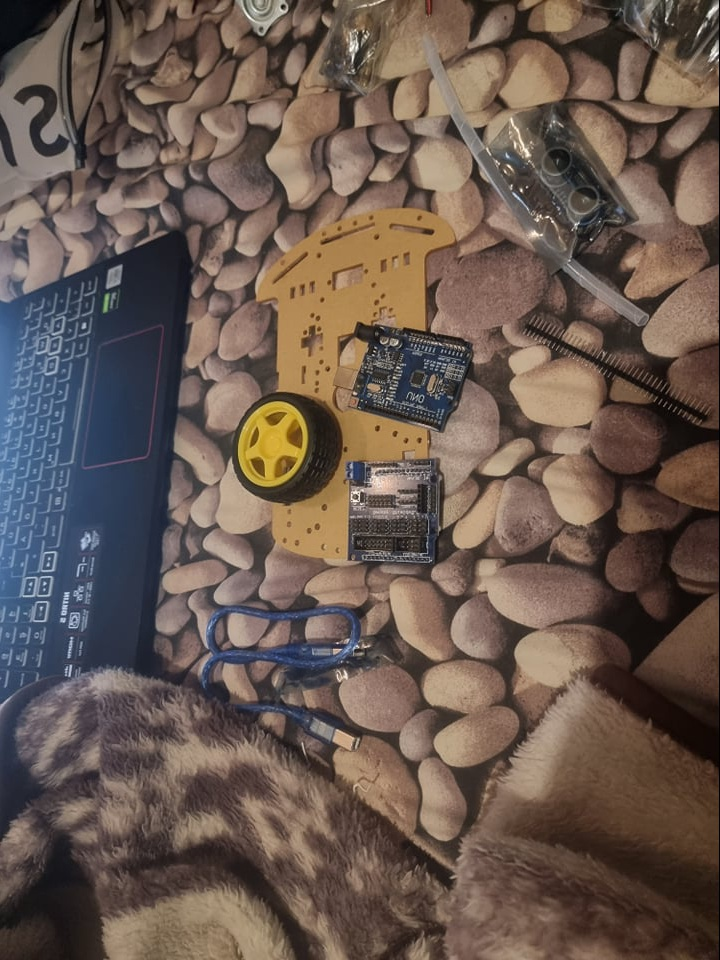5V EXPANSION: (354, 319, 475, 433), (343, 459, 443, 564)
SENSOR: (536, 145, 609, 223)
